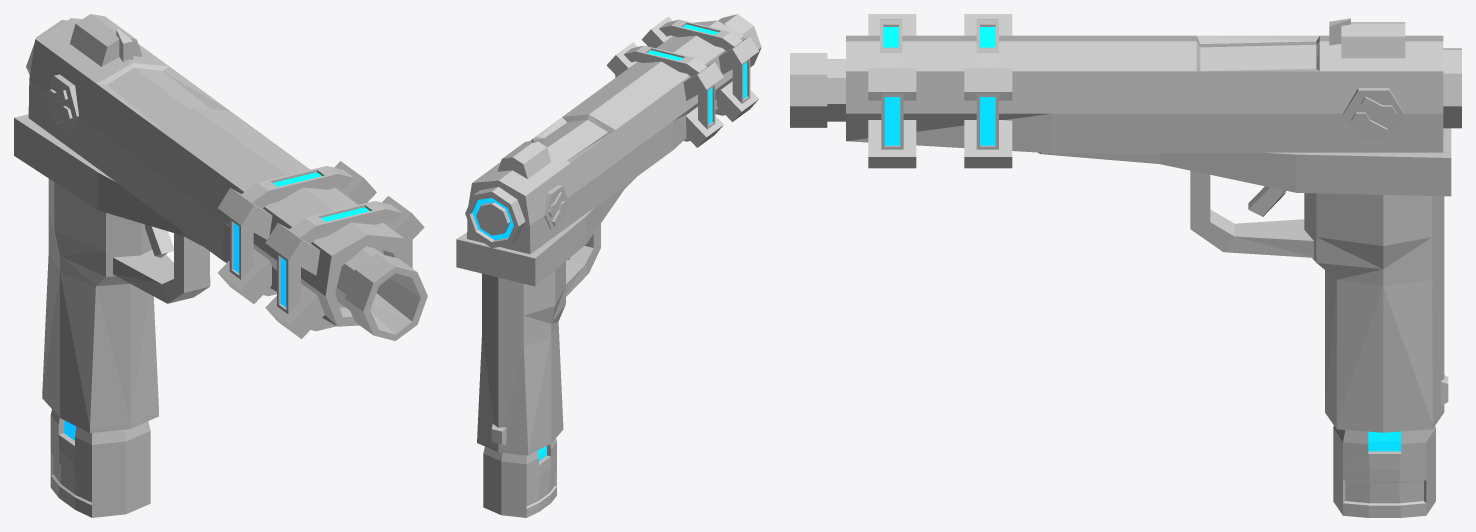
The model's file is weapon_pistol.dae.
3 views of the same model, side by side, from view 1: azimuth 30°, elevation 25°; view 2: azimuth 150°, elevation 25°; view 3: azimuth 270°, elevation 25° (orthographic). The views are drawn at different scales.
Parts seen in each view (by area): view 1: Pistol_textured; view 2: Pistol_textured; view 3: Pistol_textured.
Part boxes in pixels (x1=…): Pistol_textured: x1=14, y1=14, x2=427, y2=517; Pistol_textured: x1=456, y1=14, x2=761, y2=517; Pistol_textured: x1=790, y1=14, x2=1461, y2=517.
Bounding box in the file's own units: 0.536 × 2.28 × 1.81.
